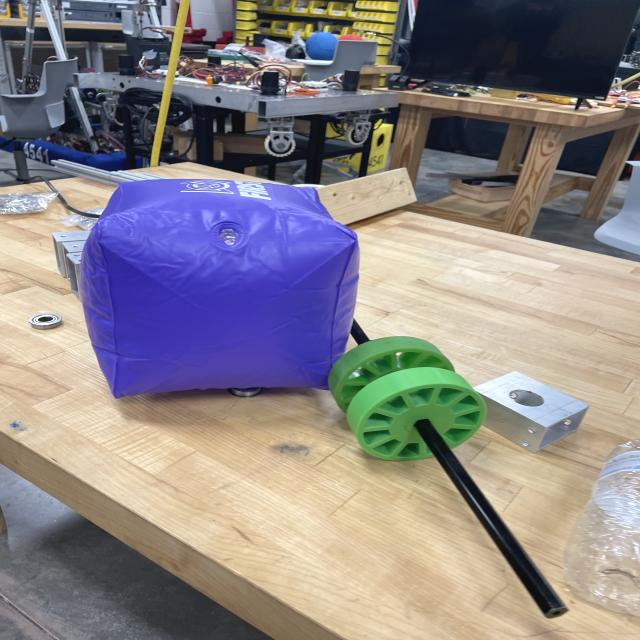frc_cube: (71, 174, 363, 397)
